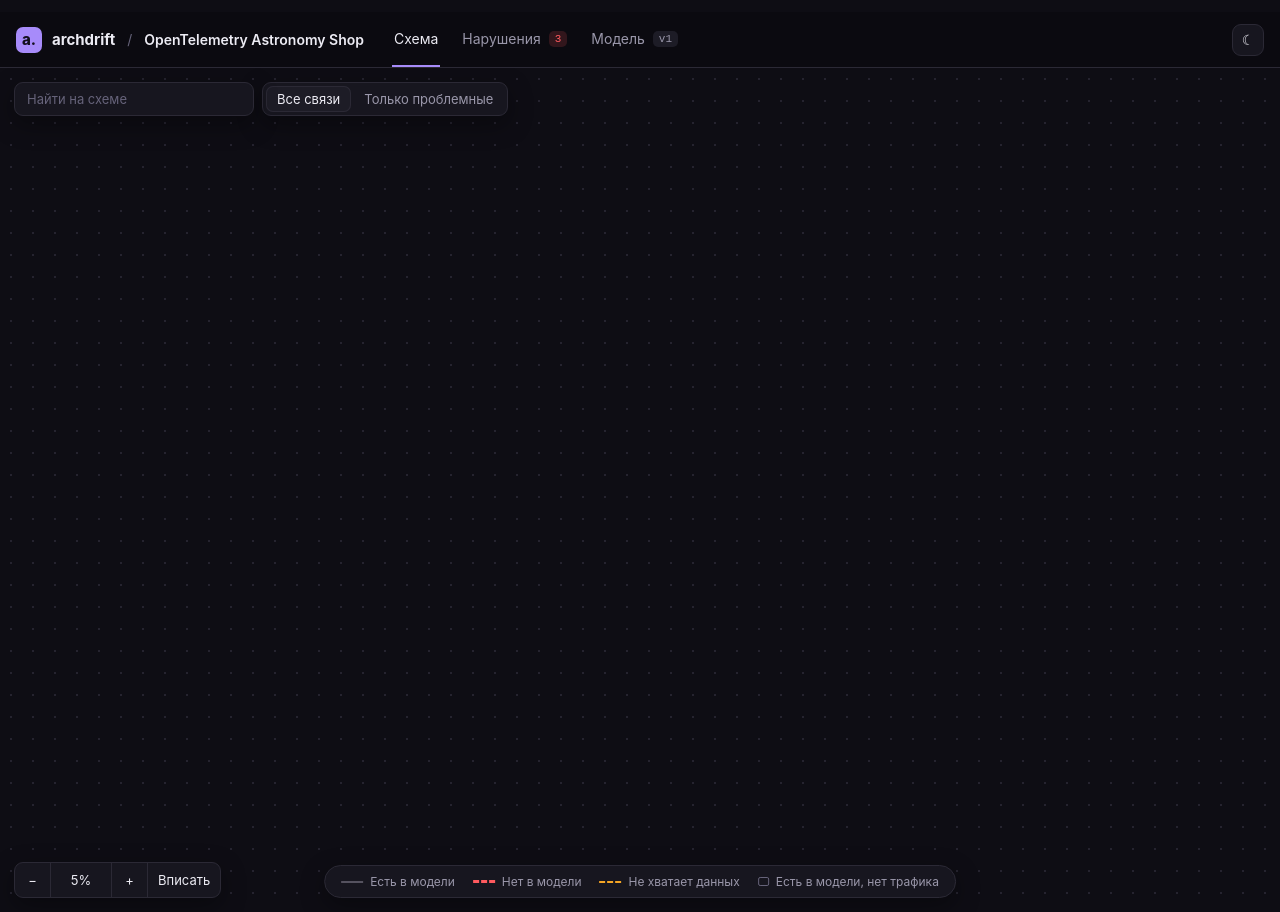
Scenario: new architecture flow › lists original problem edges and selects their collapsed edge on the graph
What coordinates should you click on to do the following:
click the tab "Нарушения 3"
I would click on:
 (515, 40)
Its box is [460,12,569,67].
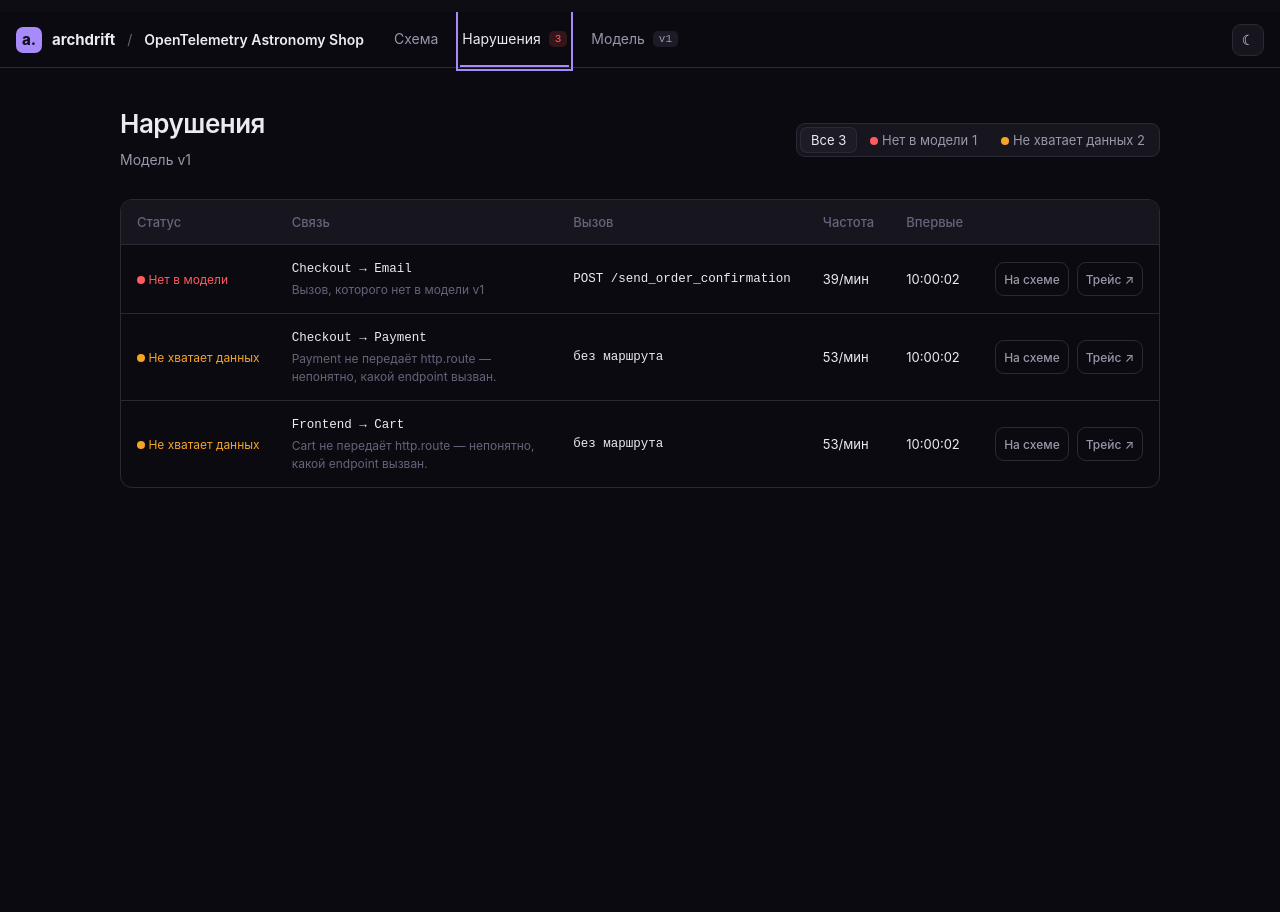
Result: the 1st element with class "unexpected" is shown at [870,137,878,145]
Result: the 1st element with class "indeterminate" is shown at [1001,137,1009,145]
Result: the row that starts with "Нет в модели" is shown at [148,272,228,287]
What coordinates should you click on to do the following:
click the button "На схеме" in the row of "Email"
I would click on:
 (1032, 279)
Its box is [995,262,1069,296].
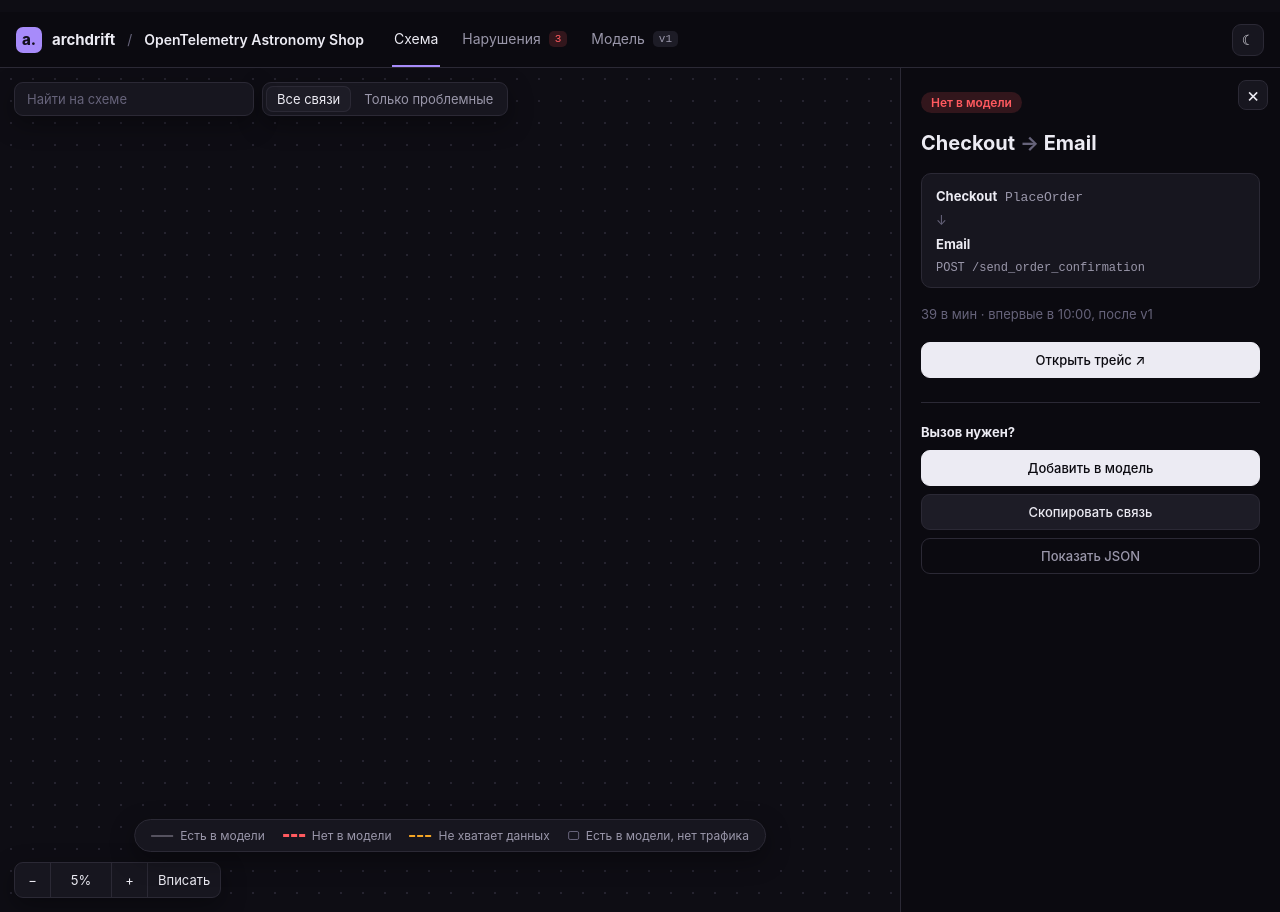
Result: the picture is shown
